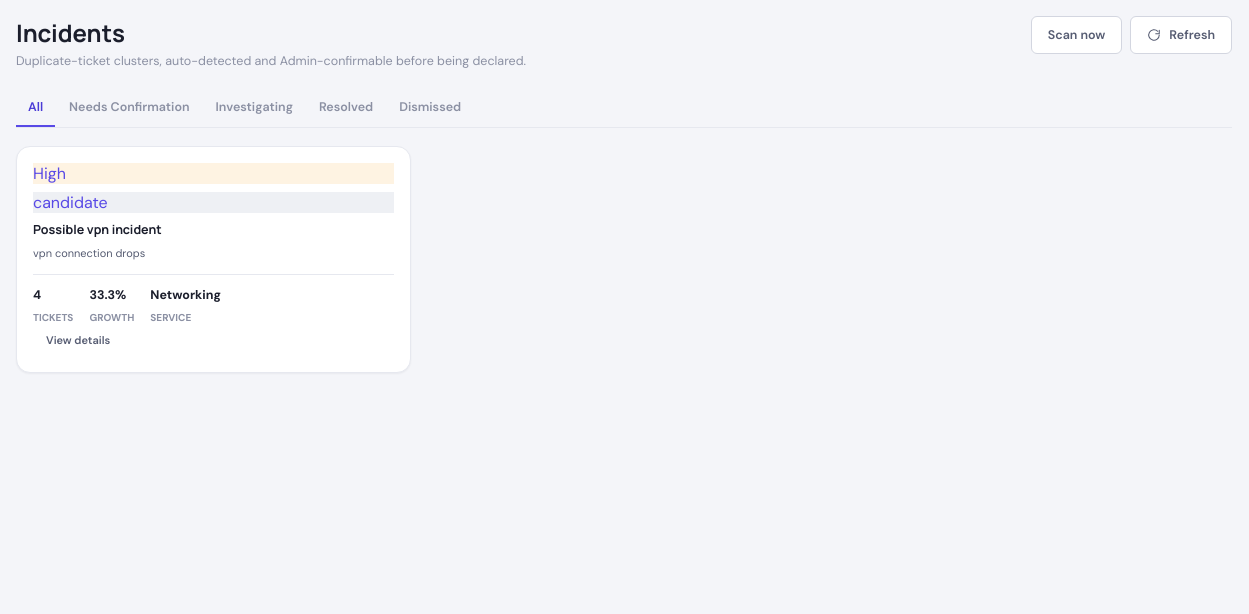
Test case: Incidents page › labels the root-cause view as a hypothesis, never a confirmed fact
expect the heading "Possible vpn incident" is shown: met, box [33,221,162,238]
Click the button "View details". click: (78, 340)
box: [33,324,123,356]
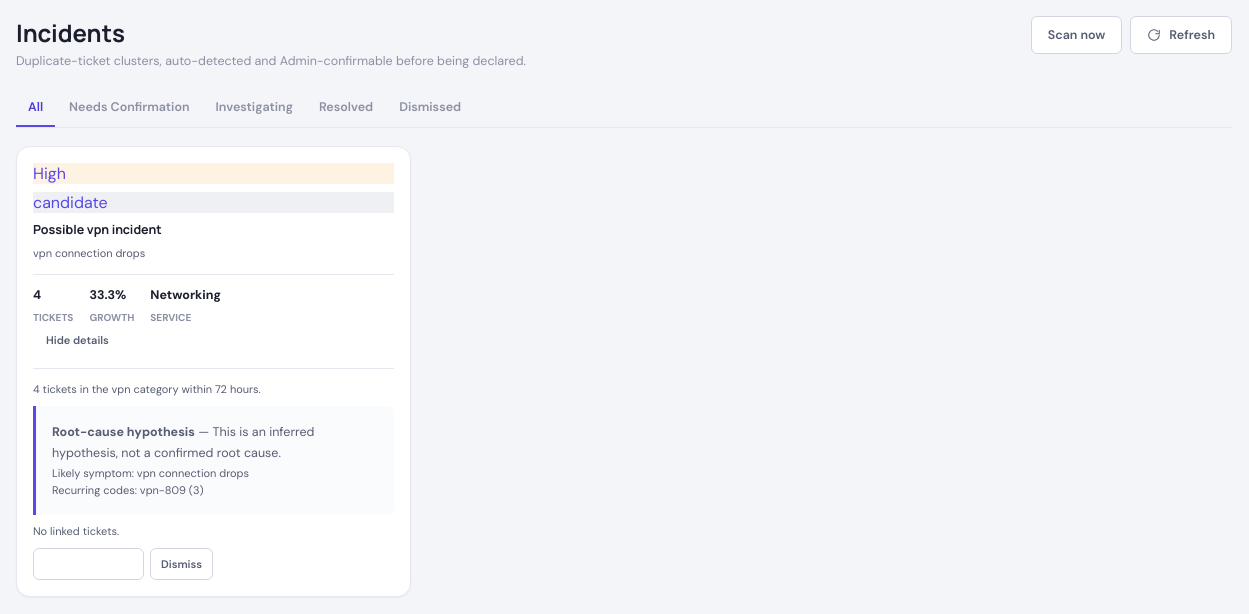
expect the text "This is an inferred hypothesis, not a confirmed root cause." is shown: met, box [52,424,314,461]
